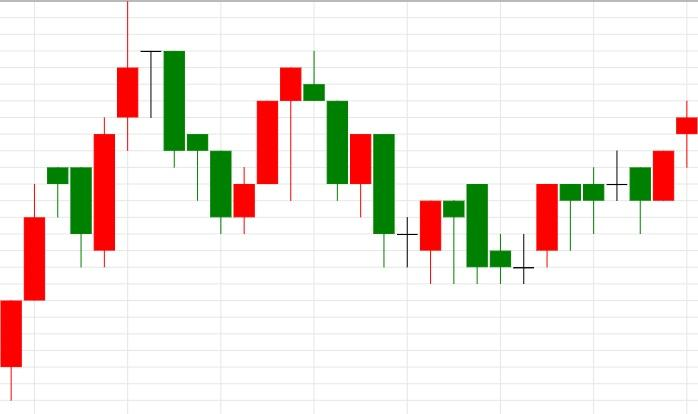evening_star_fall: (1, 1, 185, 400)
morning_star_rise: (374, 134, 558, 284)
